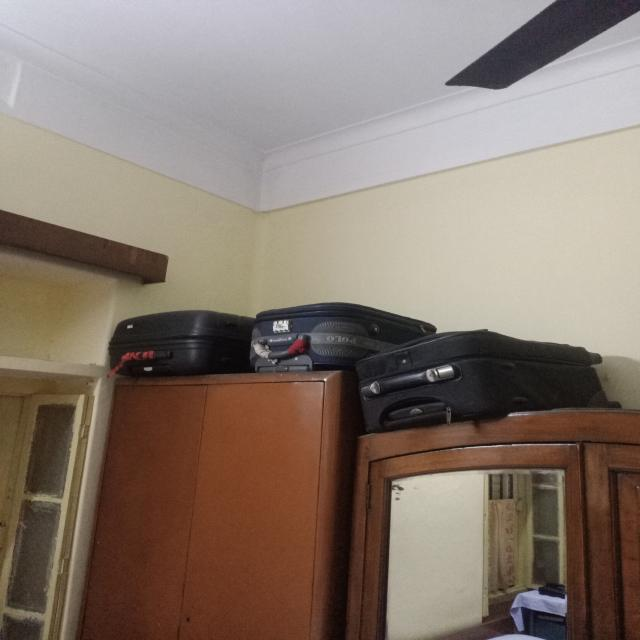suitcaserotation: (348, 327, 622, 436), (242, 300, 438, 376), (104, 308, 255, 380)
